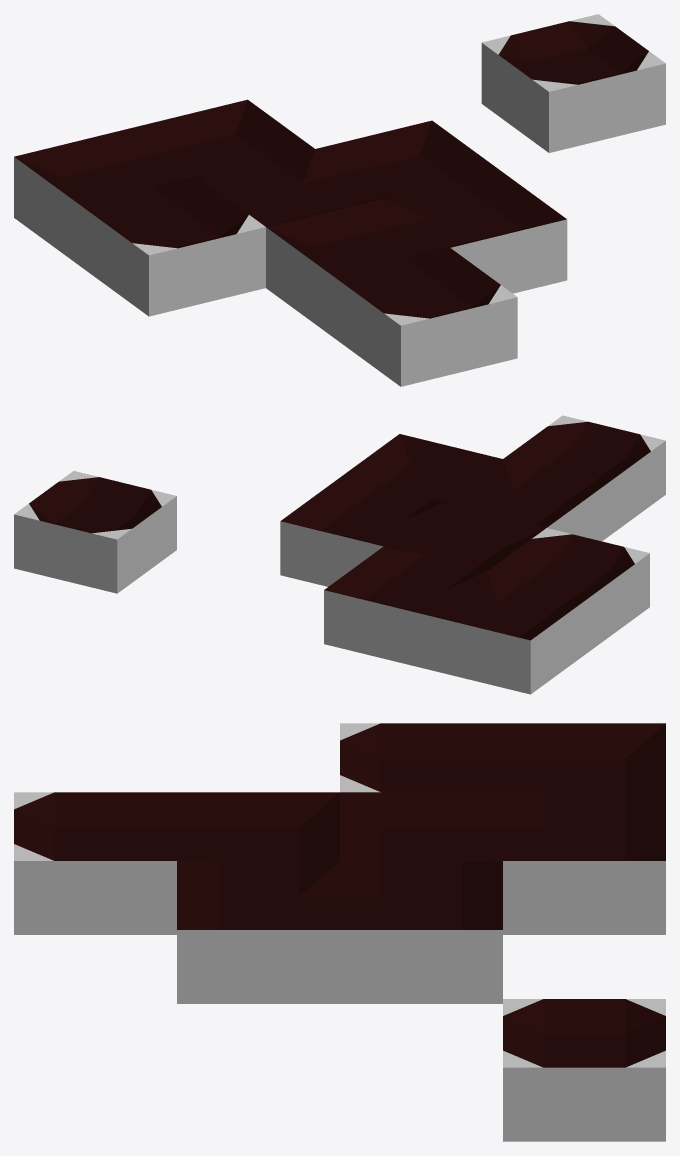
Rendered from 11s_path.obj.
The picture shows the model from 3 angles, top to bottom: view 1: azimuth 30°, elevation 25°; view 2: azimuth 150°, elevation 25°; view 3: azimuth 270°, elevation 25°; orthographic projection. The views are drawn at different scales.
Visible parts, largest first — view 1: hole.4.3_Cube.172, ending.0.2_ending.341, ending.1.0_ending.342, corner.1.1_corner.854, corner.0.3_corner.853, corner.2.1_corner.857, corner.2.2_corner.858, corner.1.3_corner.856, corner.1.2_corner.855; view 2: hole.4.3_Cube.172, corner.0.3_corner.853, corner.1.3_corner.856, ending.1.0_ending.342, ending.0.2_ending.341, corner.2.2_corner.858, corner.2.1_corner.857, corner.1.2_corner.855, corner.1.1_corner.854; view 3: ending.1.0_ending.342, hole.4.3_Cube.172, corner.2.1_corner.857, corner.2.2_corner.858, corner.1.3_corner.856, corner.0.3_corner.853, corner.1.1_corner.854, corner.1.2_corner.855, ending.0.2_ending.341.
Part boxes in pixels (x1,y1,x2,y2): hole.4.3_Cube.172: (481, 14, 665, 152); ending.0.2_ending.341: (81, 177, 265, 316); ending.1.0_ending.342: (333, 248, 517, 386); corner.1.1_corner.854: (266, 198, 449, 336); corner.0.3_corner.853: (14, 128, 197, 266); corner.2.1_corner.857: (383, 170, 567, 293); corner.2.2_corner.858: (315, 120, 499, 206); corner.1.3_corner.856: (131, 99, 314, 185); corner.1.2_corner.855: (199, 149, 379, 226); hole.4.3_Cube.172: (14, 471, 176, 593); corner.0.3_corner.853: (427, 572, 590, 694); corner.1.3_corner.856: (324, 546, 486, 669); ending.1.0_ending.342: (503, 415, 665, 537); ending.0.2_ending.341: (487, 528, 649, 650); corner.2.2_corner.858: (280, 478, 442, 586); corner.2.1_corner.857: (340, 434, 502, 509); corner.1.2_corner.855: (384, 503, 545, 578); corner.1.1_corner.854: (445, 459, 606, 541); ending.1.0_ending.342: (14, 792, 176, 934); hole.4.3_Cube.172: (503, 999, 665, 1141); corner.2.1_corner.857: (177, 861, 339, 1003); corner.2.2_corner.858: (340, 861, 502, 1003); corner.1.3_corner.856: (503, 792, 665, 934); corner.0.3_corner.853: (503, 723, 665, 810); corner.1.1_corner.854: (177, 792, 339, 879); corner.1.2_corner.855: (340, 792, 502, 879); ending.0.2_ending.341: (340, 723, 502, 792).
Size of the model in its own units: 10 by 1 by 8.
